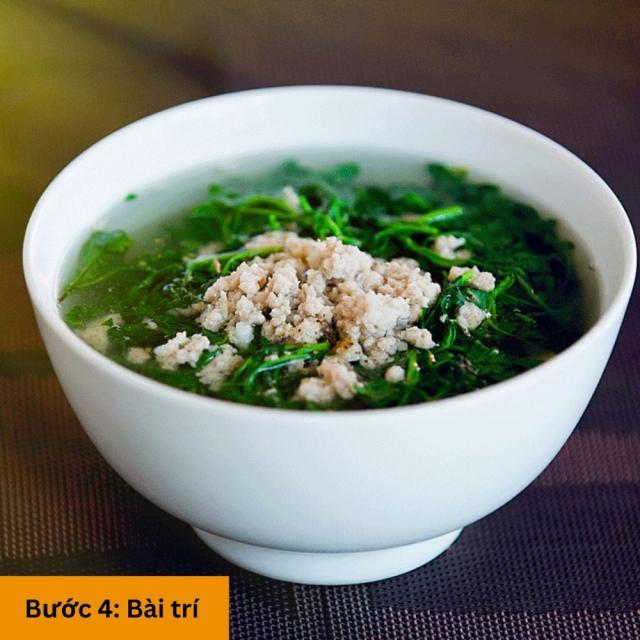canh cai: (59, 163, 584, 410)
